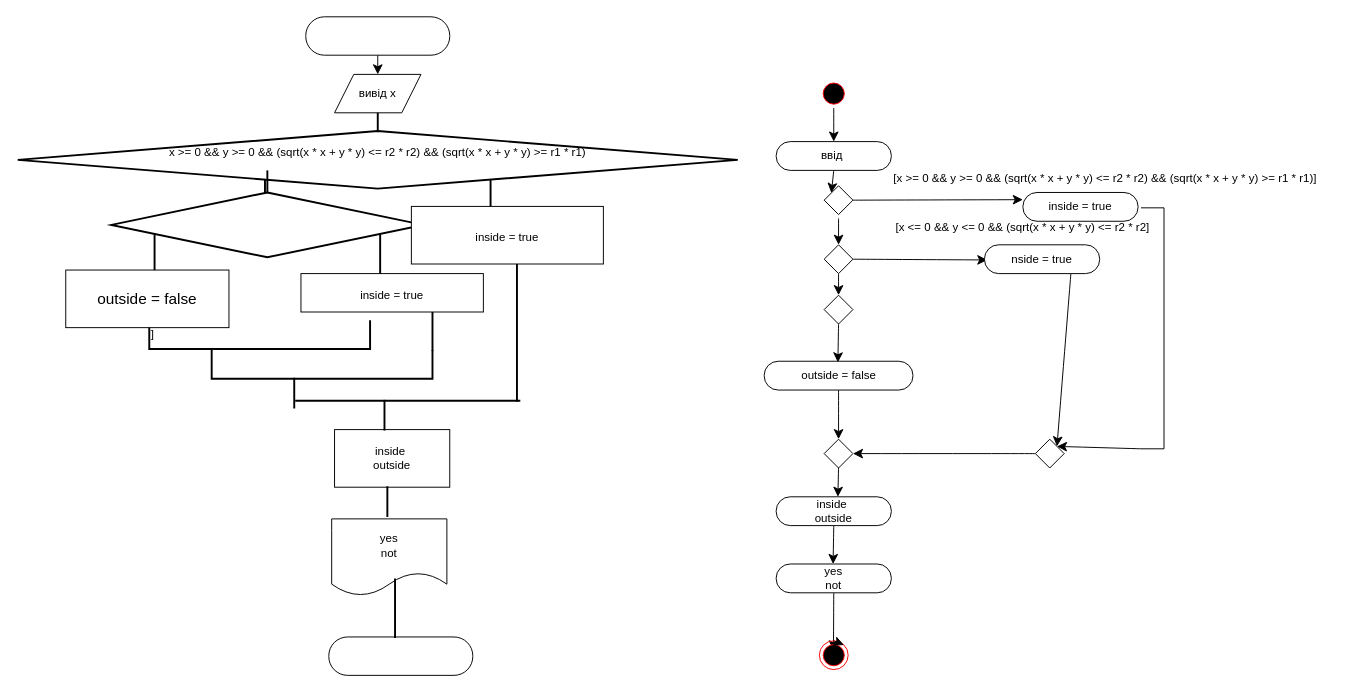
Some shapes in this 1355 by 692 pixel diagram are drawn without their labels. Each missing label, with the centre of its shape:
"x <= 0 && y <= 0 && (sqrt(x * x + y * y) <= r2 * r2" goes at point (267, 224).
"кінець" goes at point (400, 655).
"початок" goes at point (377, 35).
